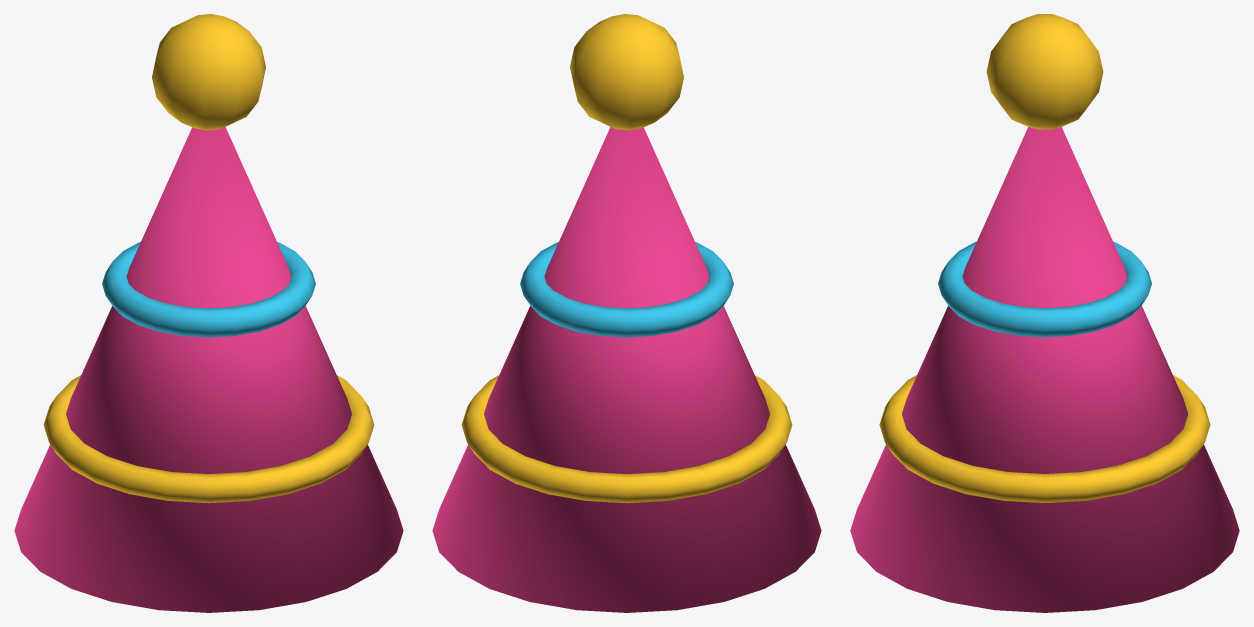
File: hat_party.glb
3 renders of one model, left to right at view 1: azimuth 30°, elevation 25°; view 2: azimuth 150°, elevation 25°; view 3: azimuth 270°, elevation 25°, orthographic.
Visible parts, largest first — view 1: Body; view 2: Body; view 3: Body.
Boxes of the visible parts, x1,y1,x2,y2 form: Body: (14, 14, 403, 612); Body: (432, 14, 821, 612); Body: (850, 14, 1239, 612).
Size of the model in its own units: 0.4 by 0.58 by 0.4.
